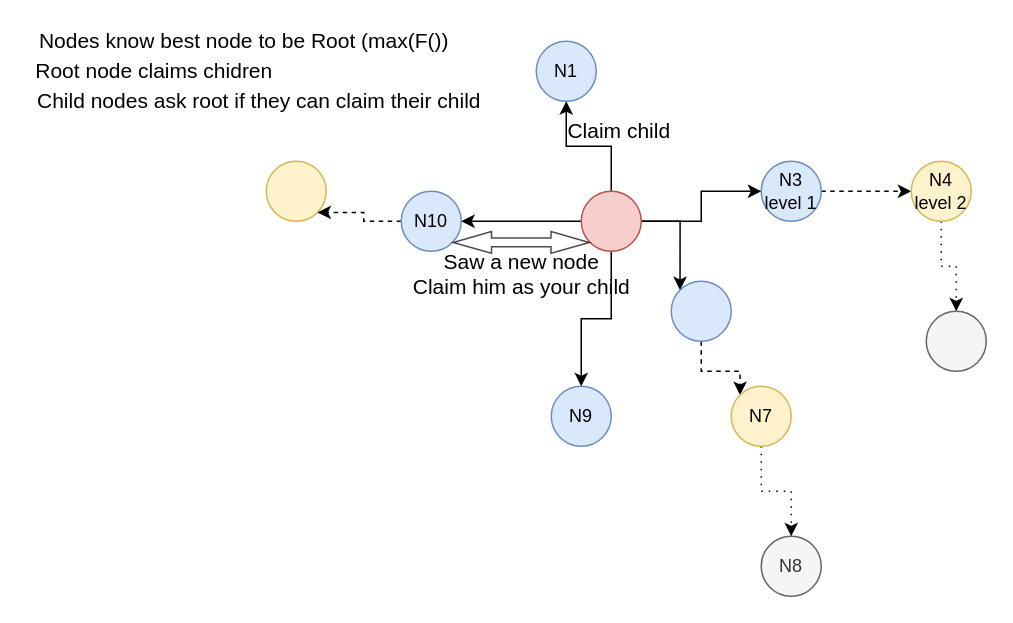
This 1013x623 diagram has some shape labels left out. Each missing label, with the centre of its shape:
N11: point 295,190
N2 Root: point 610,220
N5 level 3: point 955,340
N6: point 700,310
